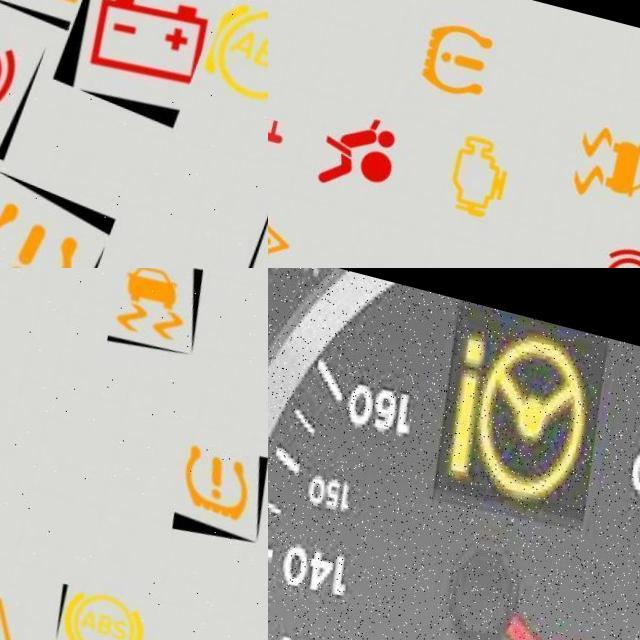Electronic Power Steering: (431, 291, 622, 509)
